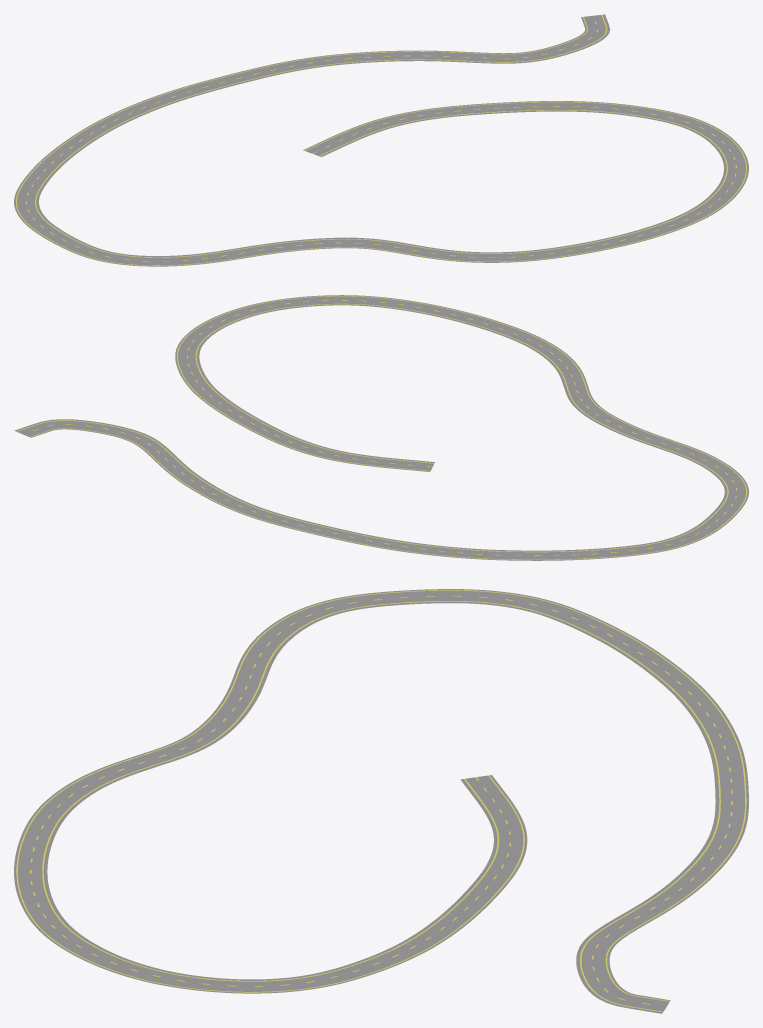
Rendered from road.gltf.
3 views of the same model, one above another, from view 1: azimuth 30°, elevation 25°; view 2: azimuth 150°, elevation 25°; view 3: azimuth 270°, elevation 25° (orthographic). The views are drawn at different scales.
Visible parts, largest first — view 1: Plane; view 2: Plane; view 3: Plane.
Part boxes in pixels (x1,y1,x2,y2): Plane: [14, 14, 748, 266]; Plane: [14, 295, 748, 560]; Plane: [14, 589, 748, 1013].
Size of the model in its own units: 71.41 by 5.96e-08 by 52.2.
